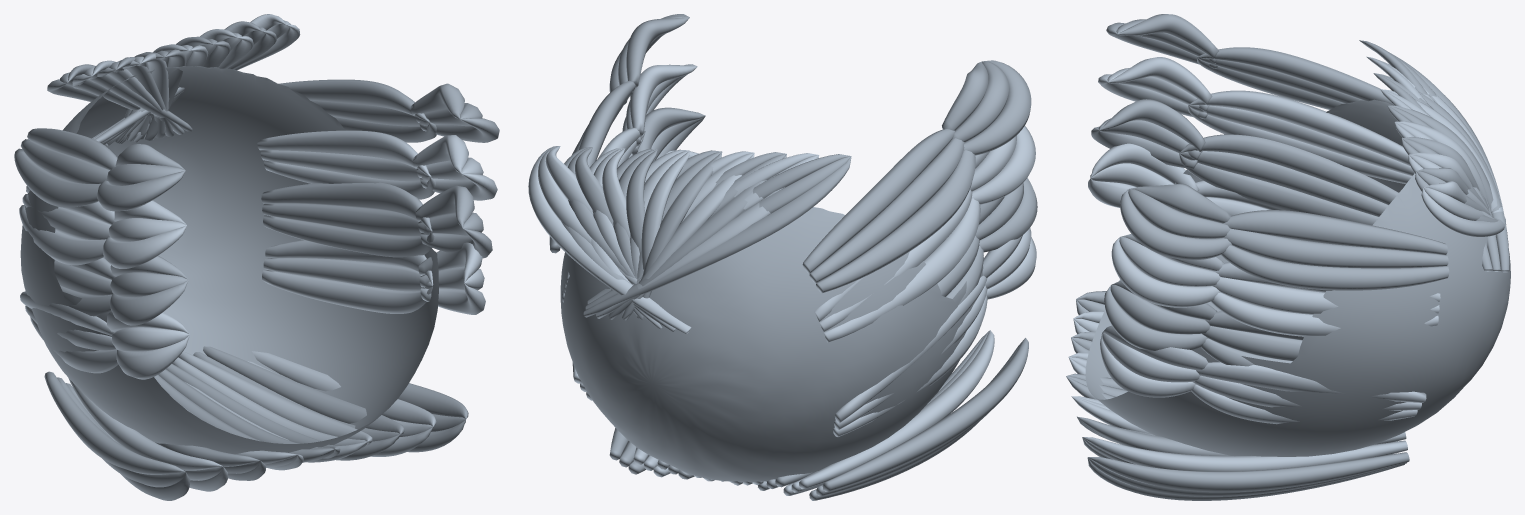
3 renders of one model, left to right at view 1: azimuth 30°, elevation 25°; view 2: azimuth 150°, elevation 25°; view 3: azimuth 270°, elevation 25°, orthographic. The views are drawn at different scales.
Visible parts, largest first — view 1: CrownHair_ref12, SideHair_Upper_1_2_Strand2, SideHair_Upper_1_3_Strand0, SideHair_Upper_1_1_Strand2, BackHair_06_Strand2, SideHair_Upper_1_3_Strand1, SideHair_Upper_1_2_Strand0, SideHair_Upper_1_2_Strand1, BackHair_00_Strand0, BackHair_05_Strand2, SideHair_Upper_1_1_Strand1, SideHair_Upper_1_0_Strand2 (+64 smaller); view 2: CrownHair_ref12, SideHair_Upper_-1_0_Strand2, BackHair_00_Strand0, SideHair_Upper_-1_0_Strand0, SideHair_Upper_-1_0_Strand1, FrontHair_Sweep_00_Strand2, BackHair_01_Strand0, SideHair_Upper_-1_1_Strand2, FrontHair_Sweep_09_Strand0, SideHair_Wave_-1_0_Strand2, SideHair_Wave_-1_1_Strand2, FrontHair_Sweep_03_Strand2 (+43 smaller); view 3: CrownHair_ref12, BackHair_08_Strand2, SideHair_Upper_1_0_Strand2, SideHair_Upper_1_0_Strand0, SideHair_Upper_1_0_Strand1, BackHair_07_Strand2, SideHair_Upper_-1_1_Strand0, SideHair_Upper_-1_2_Strand0, SideHair_Upper_-1_2_Strand1, SideHair_Upper_-1_2_Strand2, SideHair_Upper_-1_0_Strand0, SideHair_Upper_-1_1_Strand1 (+55 smaller).
Boxes of the visible parts, x1,y1,x2,y2 form: CrownHair_ref12: [20, 66, 438, 454]; SideHair_Upper_1_2_Strand2: [261, 182, 431, 230]; SideHair_Upper_1_3_Strand0: [262, 270, 432, 313]; SideHair_Upper_1_1_Strand2: [257, 130, 429, 176]; BackHair_06_Strand2: [203, 346, 404, 434]; SideHair_Upper_1_3_Strand1: [263, 258, 432, 291]; SideHair_Upper_1_2_Strand0: [263, 215, 434, 257]; SideHair_Upper_1_2_Strand1: [262, 203, 432, 236]; BackHair_00_Strand0: [44, 371, 185, 474]; BackHair_05_Strand2: [178, 352, 372, 445]; SideHair_Upper_1_1_Strand1: [260, 150, 431, 181]; SideHair_Upper_1_0_Strand2: [278, 79, 428, 121]; CrownHair_ref12: [560, 207, 984, 481]; SideHair_Upper_-1_0_Strand2: [816, 150, 975, 292]; BackHair_00_Strand0: [822, 338, 1028, 491]; SideHair_Upper_-1_0_Strand0: [802, 129, 954, 273]; SideHair_Upper_-1_0_Strand1: [809, 138, 964, 282]; FrontHair_Sweep_00_Strand2: [583, 156, 851, 317]; BackHair_01_Strand0: [799, 330, 994, 489]; SideHair_Upper_-1_1_Strand2: [823, 198, 980, 342]; FrontHair_Sweep_09_Strand0: [528, 146, 691, 333]; SideHair_Wave_-1_0_Strand2: [963, 60, 1031, 155]; SideHair_Wave_-1_1_Strand2: [971, 126, 1035, 204]; FrontHair_Sweep_03_Strand2: [622, 153, 754, 320]; CrownHair_ref12: [1085, 99, 1510, 456]; BackHair_08_Strand2: [1088, 452, 1409, 492]; SideHair_Upper_1_0_Strand2: [1223, 210, 1447, 254]; SideHair_Upper_1_0_Strand0: [1221, 245, 1449, 290]; SideHair_Upper_1_0_Strand1: [1223, 228, 1448, 268]; BackHair_07_Strand2: [1083, 437, 1407, 471]; SideHair_Upper_-1_1_Strand0: [1188, 90, 1410, 165]; SideHair_Upper_-1_2_Strand0: [1179, 134, 1398, 204]; SideHair_Upper_-1_2_Strand1: [1179, 151, 1388, 216]; SideHair_Upper_-1_2_Strand2: [1179, 154, 1378, 225]; SideHair_Upper_-1_0_Strand0: [1197, 47, 1393, 105]; SideHair_Upper_-1_1_Strand1: [1188, 105, 1414, 176].
Size of the model in its own units: 0.6764 by 0.623 by 0.6827.
